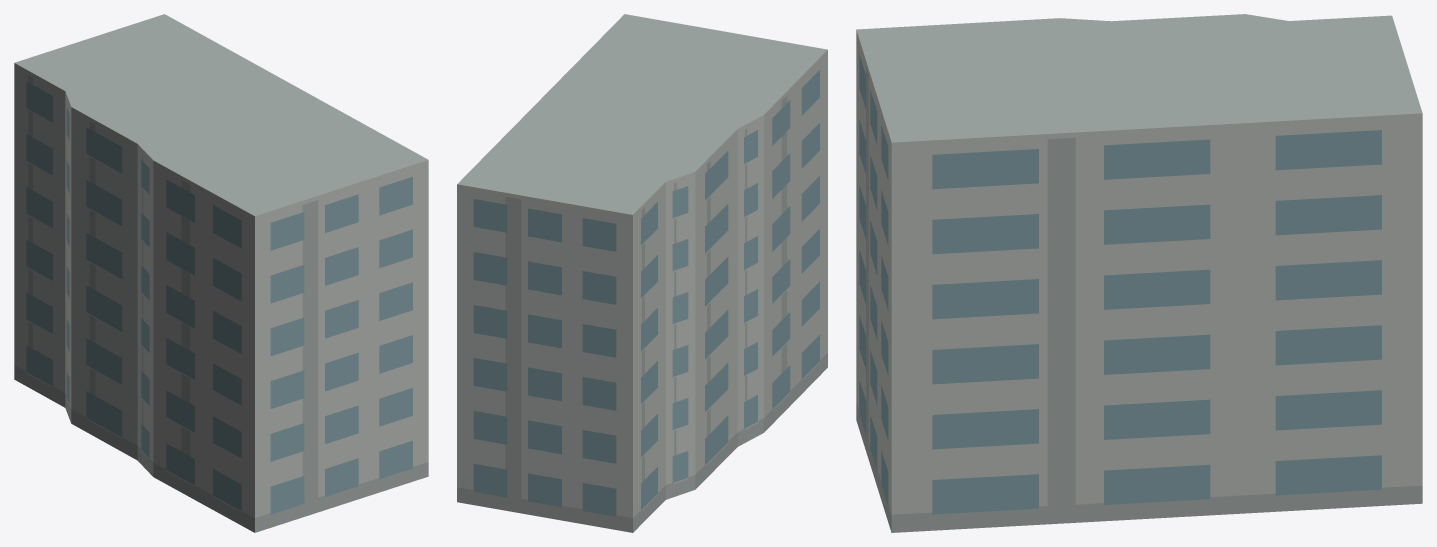
File: survey-upis-32718718.glb
3 renders of one model, left to right at view 1: azimuth 30°, elevation 25°; view 2: azimuth 150°, elevation 25°; view 3: azimuth 270°, elevation 25°, orthographic. The views are drawn at different scales.
Visible parts, largest first — view 1: survey-upis-32718718.tmp; view 2: survey-upis-32718718.tmp; view 3: survey-upis-32718718.tmp.
Boxes of the visible parts, <box> form: survey-upis-32718718.tmp: <box>14,14,428,532</box>; survey-upis-32718718.tmp: <box>457,14,827,532</box>; survey-upis-32718718.tmp: <box>856,14,1422,532</box>.
Size of the model in its own units: 12.87 by 18.2 by 23.95.
